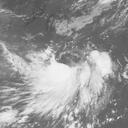cyclone: (17, 47, 111, 119)
